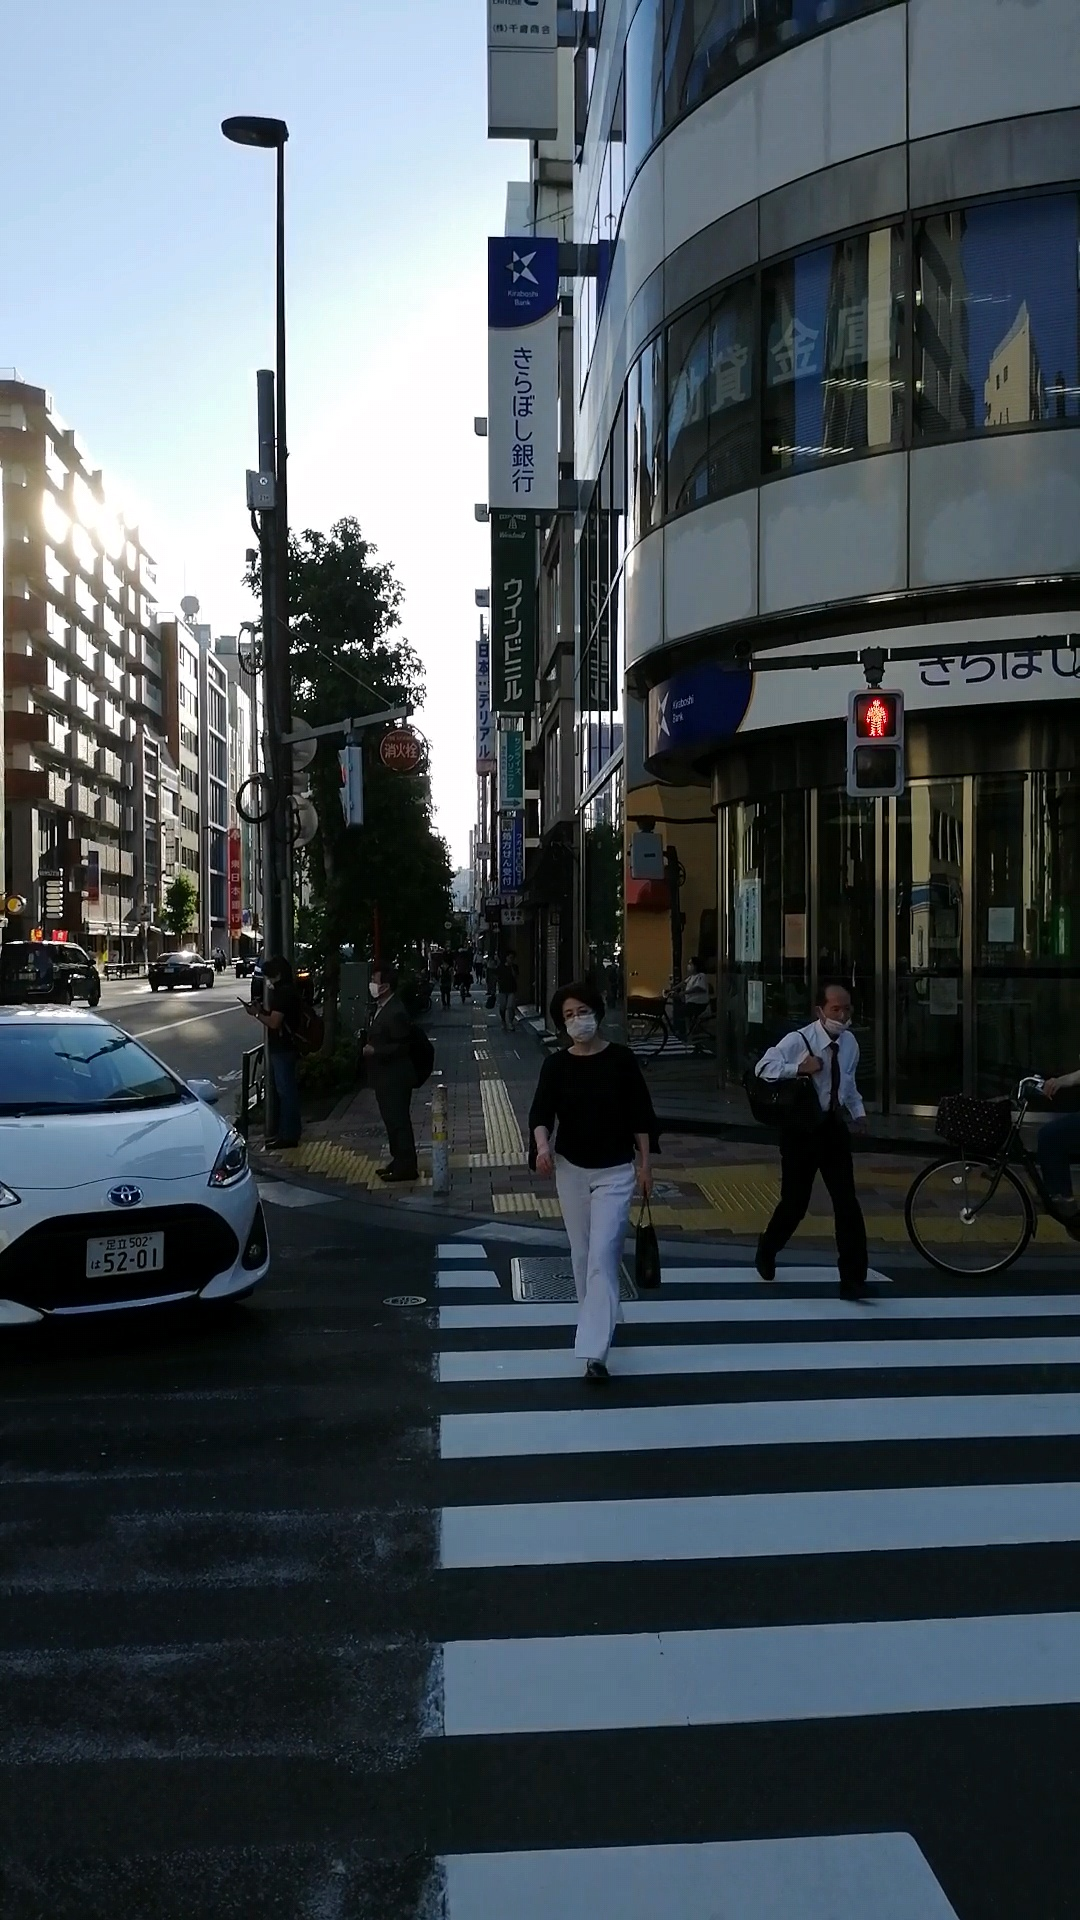red: (847, 688, 906, 796)
